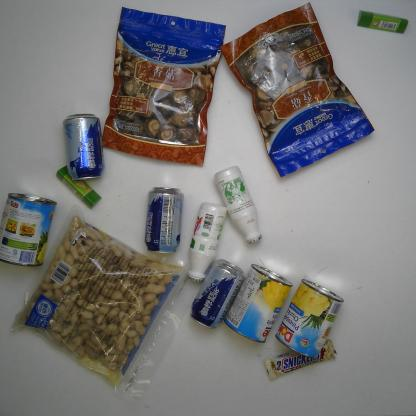Alcohol: (188, 257, 246, 331), (62, 112, 106, 182), (142, 185, 186, 255)
Canned Food: (221, 262, 294, 344), (274, 276, 345, 359), (1, 192, 57, 268)
Chocolate: (263, 338, 339, 382)
Dried Food: (7, 202, 205, 410), (219, 2, 375, 180), (100, 4, 227, 169)
Milk: (213, 165, 263, 246), (185, 200, 228, 284)
Stationery: (54, 163, 102, 210), (354, 8, 410, 37)
